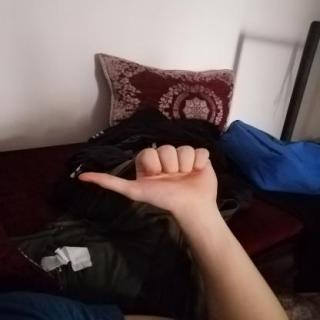DAD: (70, 138, 224, 218)
